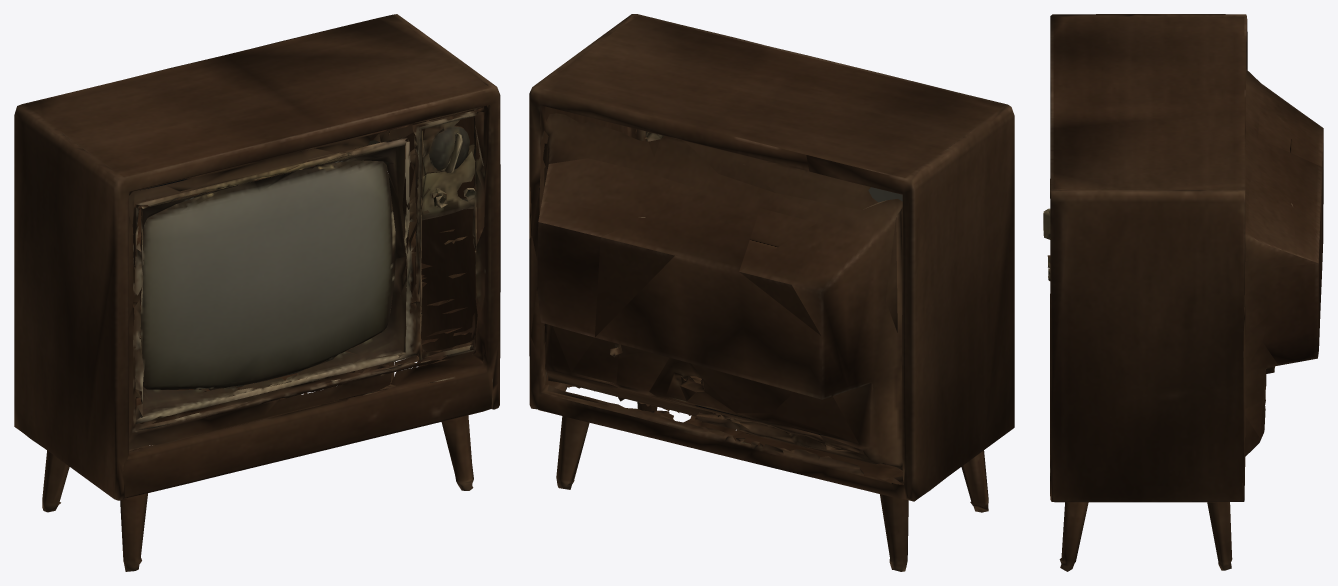
Rendered from tv-set.glb.
3 renders of one model, left to right at view 1: azimuth 30°, elevation 25°; view 2: azimuth 150°, elevation 25°; view 3: azimuth 270°, elevation 25°, orthographic. The views are drawn at different scales.
Parts seen in each view (by area): view 1: LOD0; view 2: LOD0; view 3: LOD0.
Boxes of the visible parts, box(x1,y1,x2,y2) form: LOD0: box(14, 14, 500, 571); LOD0: box(529, 14, 1014, 571); LOD0: box(1043, 14, 1323, 571).
Size of the model in its own units: 0.8198 by 0.8201 by 0.5356.
Materials: 1 (1 with a texture image).
